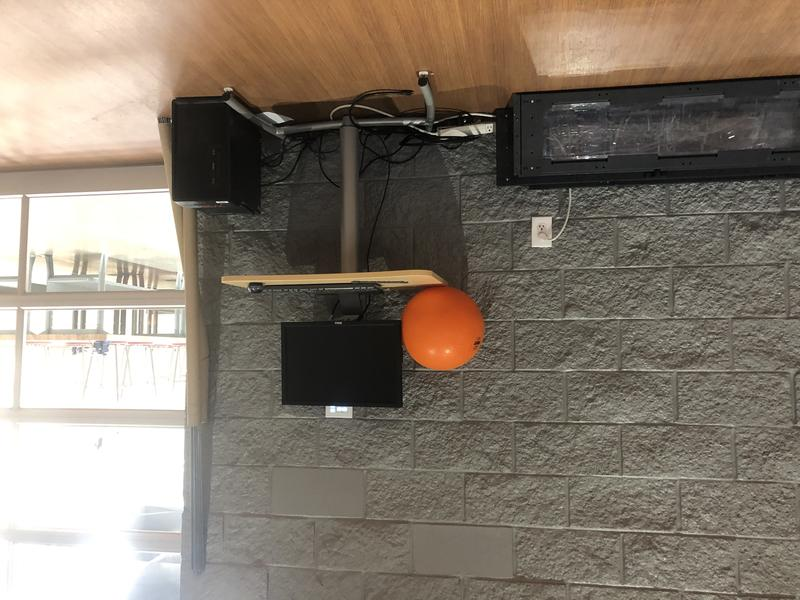ball: (403, 287, 486, 371)
